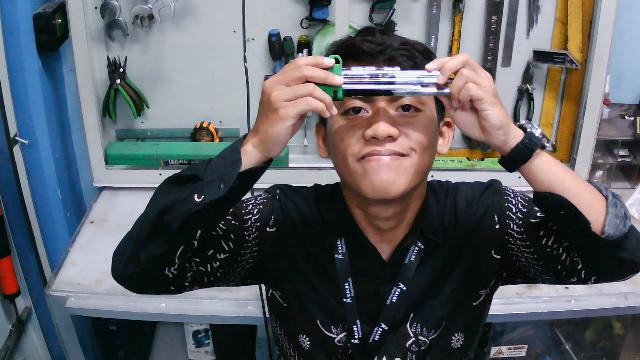kunci_l: (288, 46, 473, 105)
